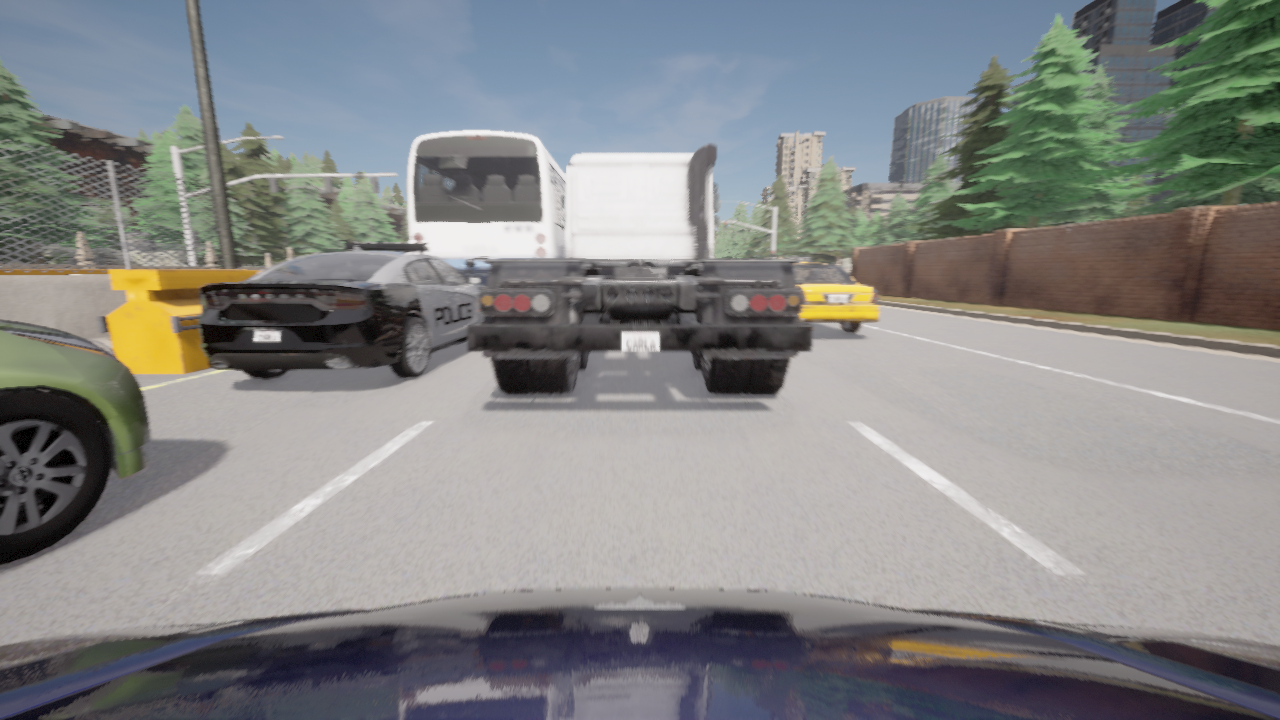cyclist: (0, 588, 1279, 719), (467, 144, 812, 394), (198, 242, 486, 378), (407, 130, 567, 286), (787, 256, 880, 332)
